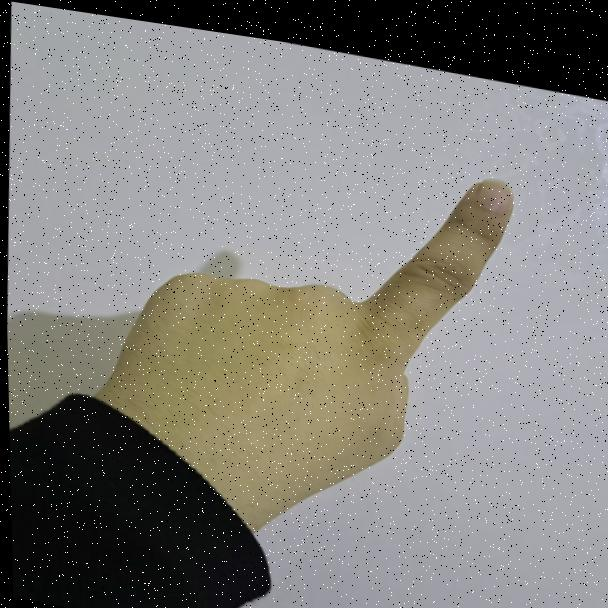one: (72, 86, 536, 537)
